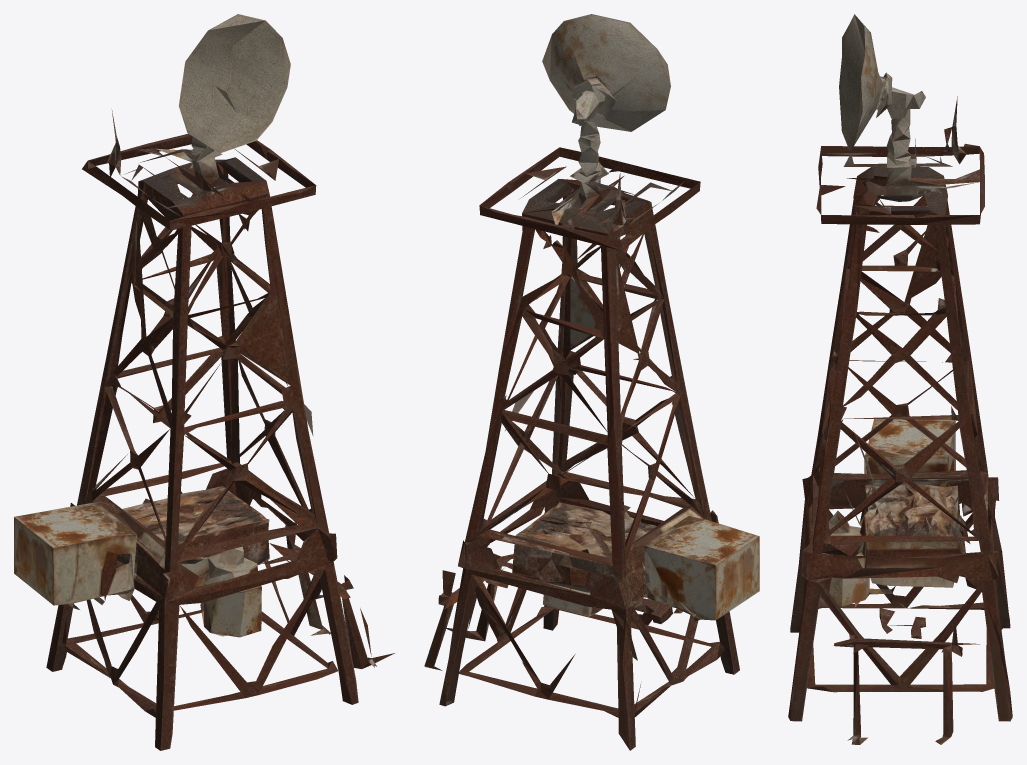
Rendered from signal_tower.glb.
The picture shows the model from 3 angles, left to right: view 1: azimuth 30°, elevation 25°; view 2: azimuth 150°, elevation 25°; view 3: azimuth 270°, elevation 25°; orthographic projection. The views are drawn at different scales.
Size of the model in its own units: 4.64 by 9 by 2.79.
Materials: 1 (1 with a texture image).
